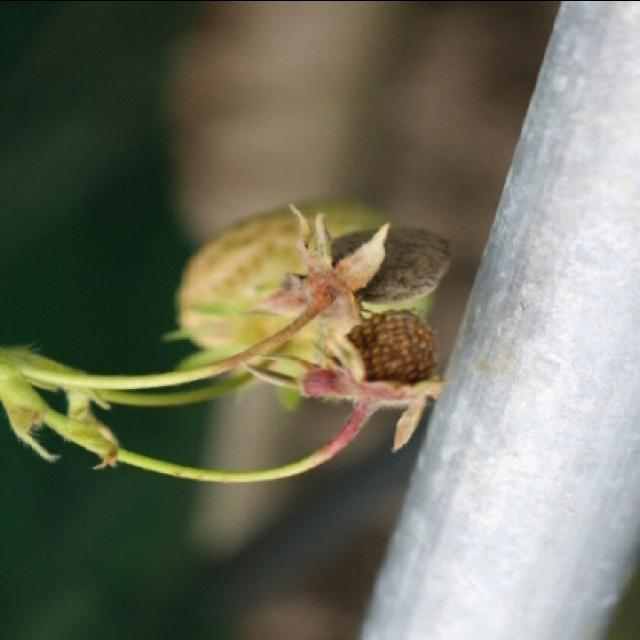Gray Mold: (261, 199, 456, 332)
